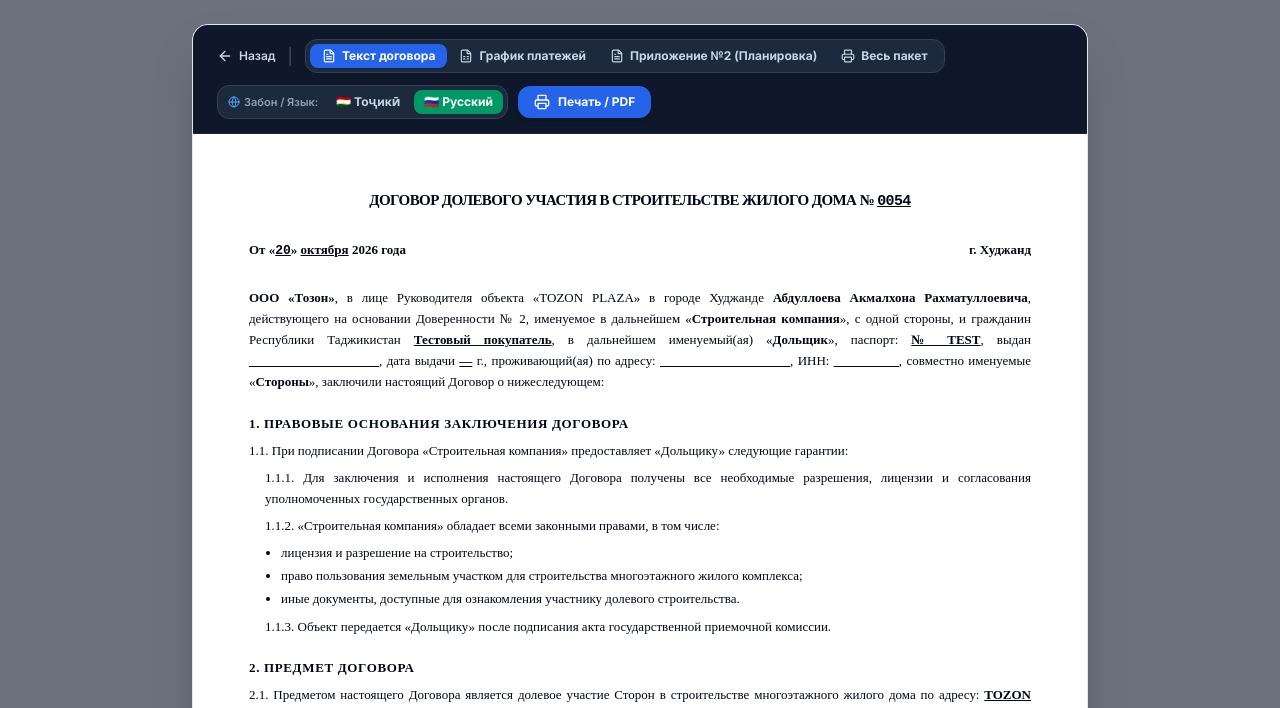
Test case: contract apartment layout appendix › never prints fallback or unrelated apartment images: wrong
This screenshot has width=1280, height=708.
What coordinates should you click on to do the following:
click the button with aria-label "Планировка квартиры"
I would click on:
 (714, 56)
Its box is 598,44 -> 829,68.
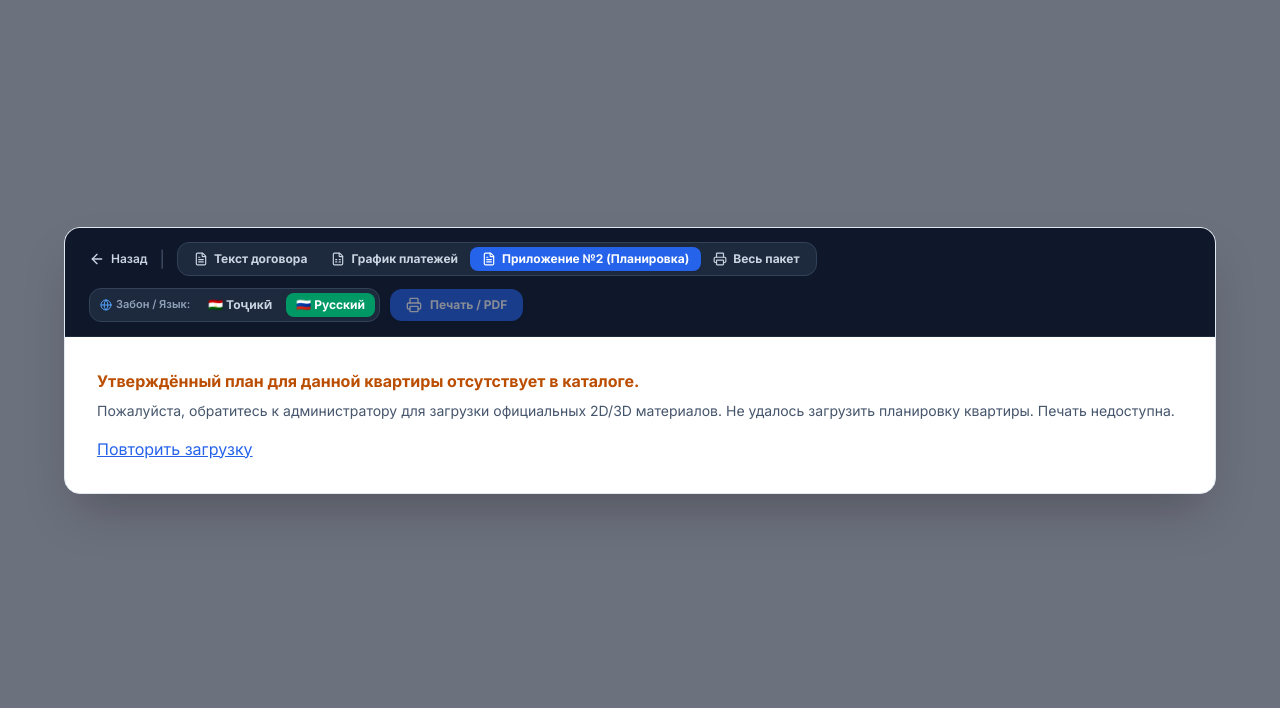
Result: the text "Не удалось загрузить планировку" is shown at 97,402 -> 1175,418
Result: the button "Печать / PDF" is disabled at 390,288 -> 523,320
